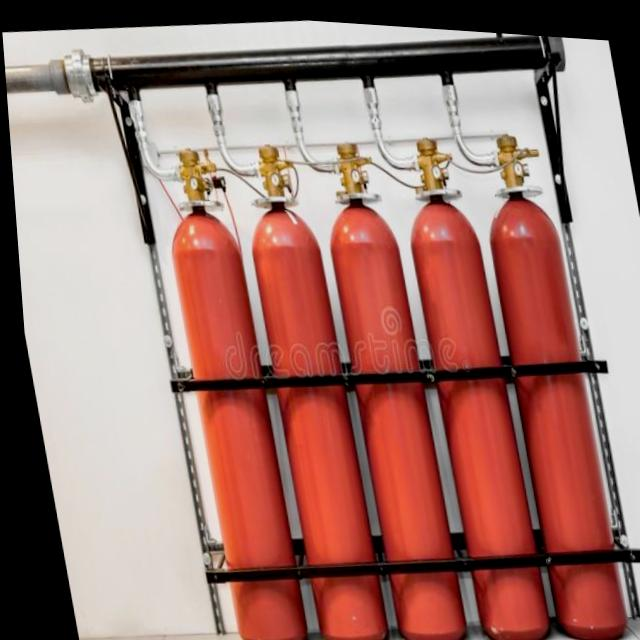FireExtinguisher: (383, 116, 547, 640), (459, 123, 622, 640), (225, 126, 387, 640), (303, 128, 465, 640), (142, 134, 305, 640)
